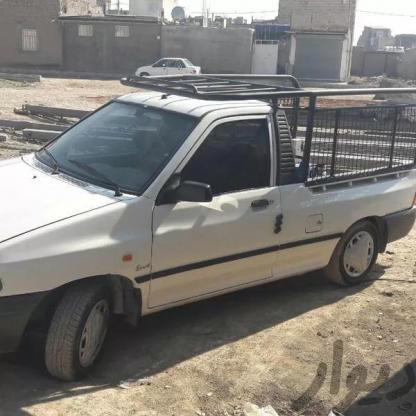Car: (0, 82, 416, 385), (129, 52, 218, 84)
